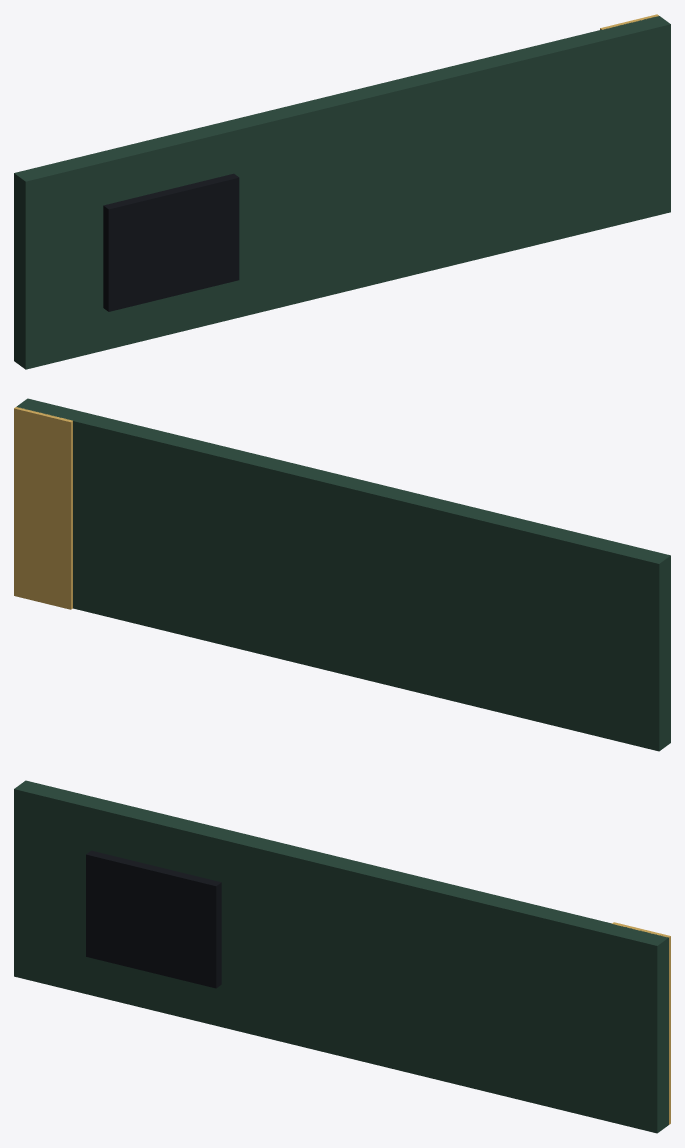
File: nvme.glb
The picture shows the model from 3 angles, top to bottom: view 1: azimuth 30°, elevation 25°; view 2: azimuth 150°, elevation 25°; view 3: azimuth 330°, elevation 25°; orthographic projection.
Visible parts, largest first — view 1: PCB, Chip; view 2: PCB, Contactos; view 3: PCB, Chip, Contactos.
Boxes of the visible parts, x1,y1,x2,y2 form: PCB: [14, 16, 670, 369]; Chip: [103, 173, 239, 311]; PCB: [16, 398, 670, 751]; Contactos: [14, 407, 72, 609]; PCB: [14, 780, 668, 1133]; Chip: [86, 850, 221, 988]; Contactos: [612, 922, 670, 1124].
Bounding box in the file's own units: 7.9 × 2.2 × 0.405.
